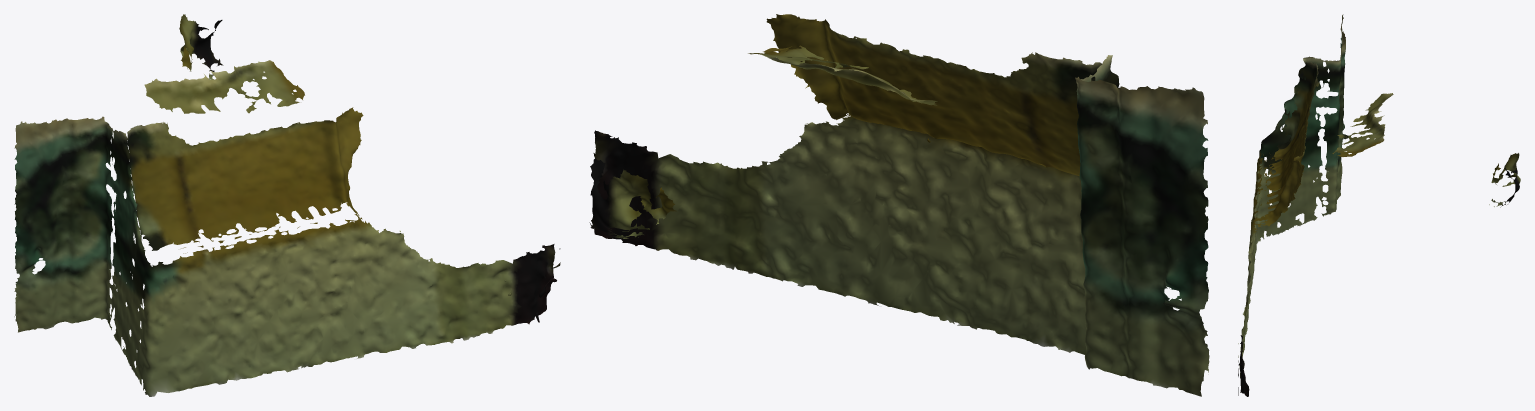
The model's file is color_model_f005_20260211_234459.obj.
3 renders of one model, left to right at view 1: azimuth 30°, elevation 25°; view 2: azimuth 150°, elevation 25°; view 3: azimuth 270°, elevation 25°, orthographic. The views are drawn at different scales.
Bounding box in the file's own units: 2.16 × 1.13 × 1.39.
